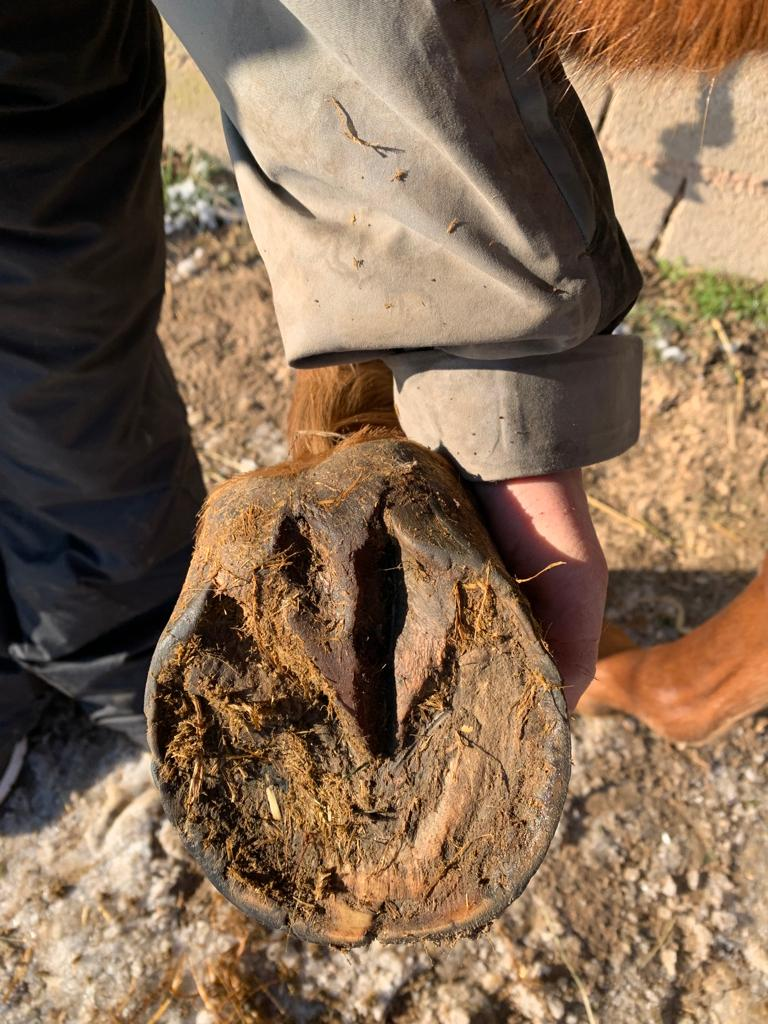horsesole: (143, 517, 570, 946)
